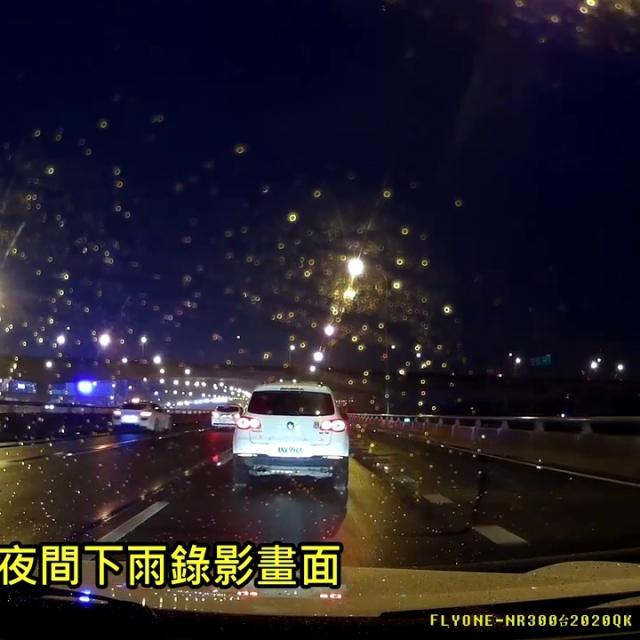Car: (226, 379, 350, 495), (106, 397, 171, 435), (207, 403, 245, 431)
